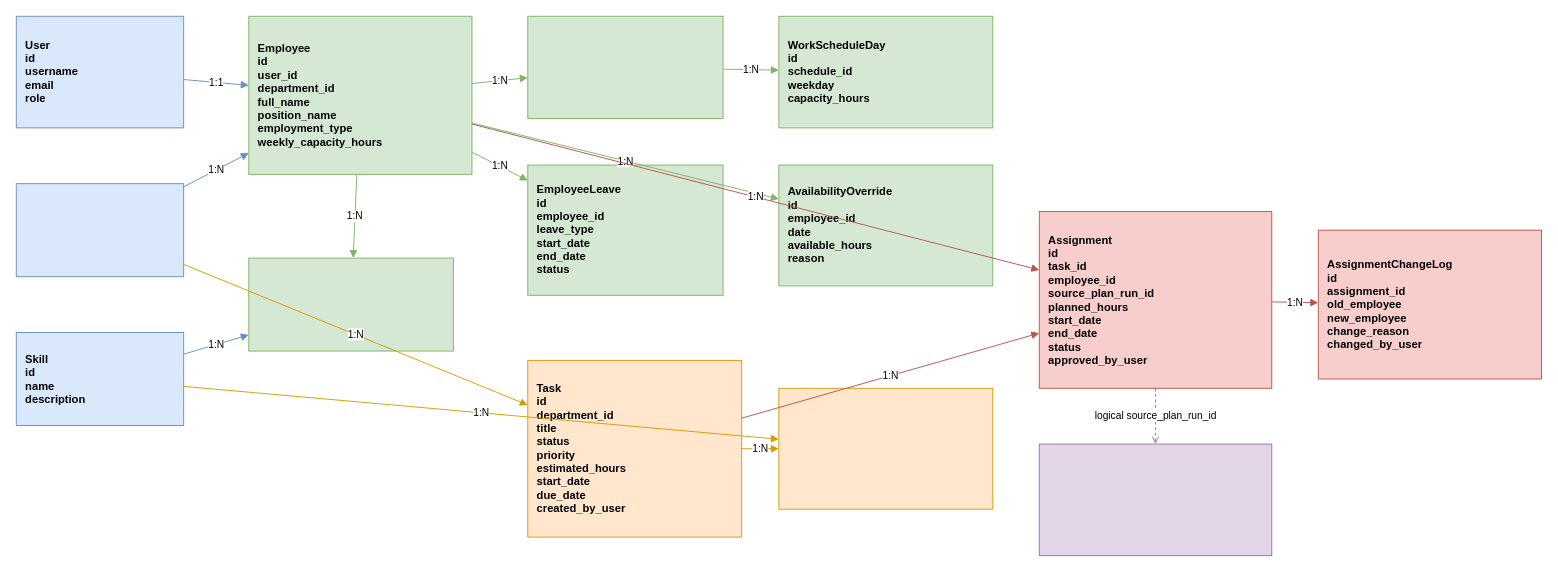
The diagram is 1558 pixels wide and 572 high, and some of its shapes have lost their labels. Here are the shapes that lost their labels. From the top down, the centre of each, then its label:
At (x=625, y=67): "WorkSchedule id employee_id name is_default".
At (x=99, y=230): "Department id name description".
At (x=350, y=304): "EmployeeSkill employee_id skill_id level".
At (x=885, y=448): "TaskRequirement id task_id skill_id min_level weight".
At (x=1155, y=499): "PlanRun (logical ref) external_uuid status proposals diagnostics".
